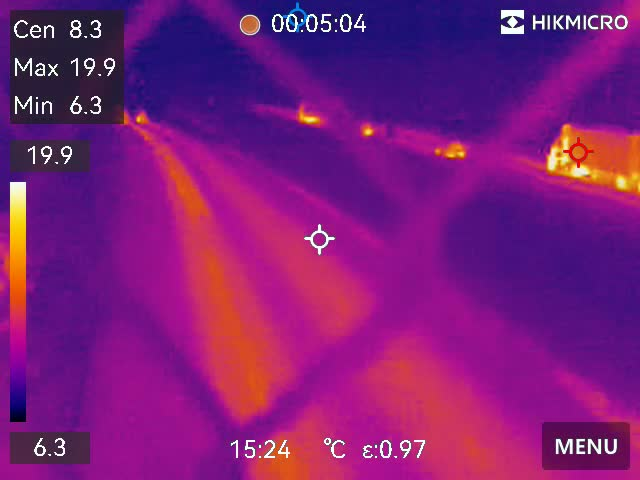heavyTruck: (537, 120, 640, 182)
